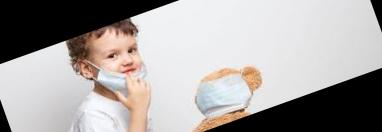mask_weared_incorrect: (95, 35, 153, 96)
